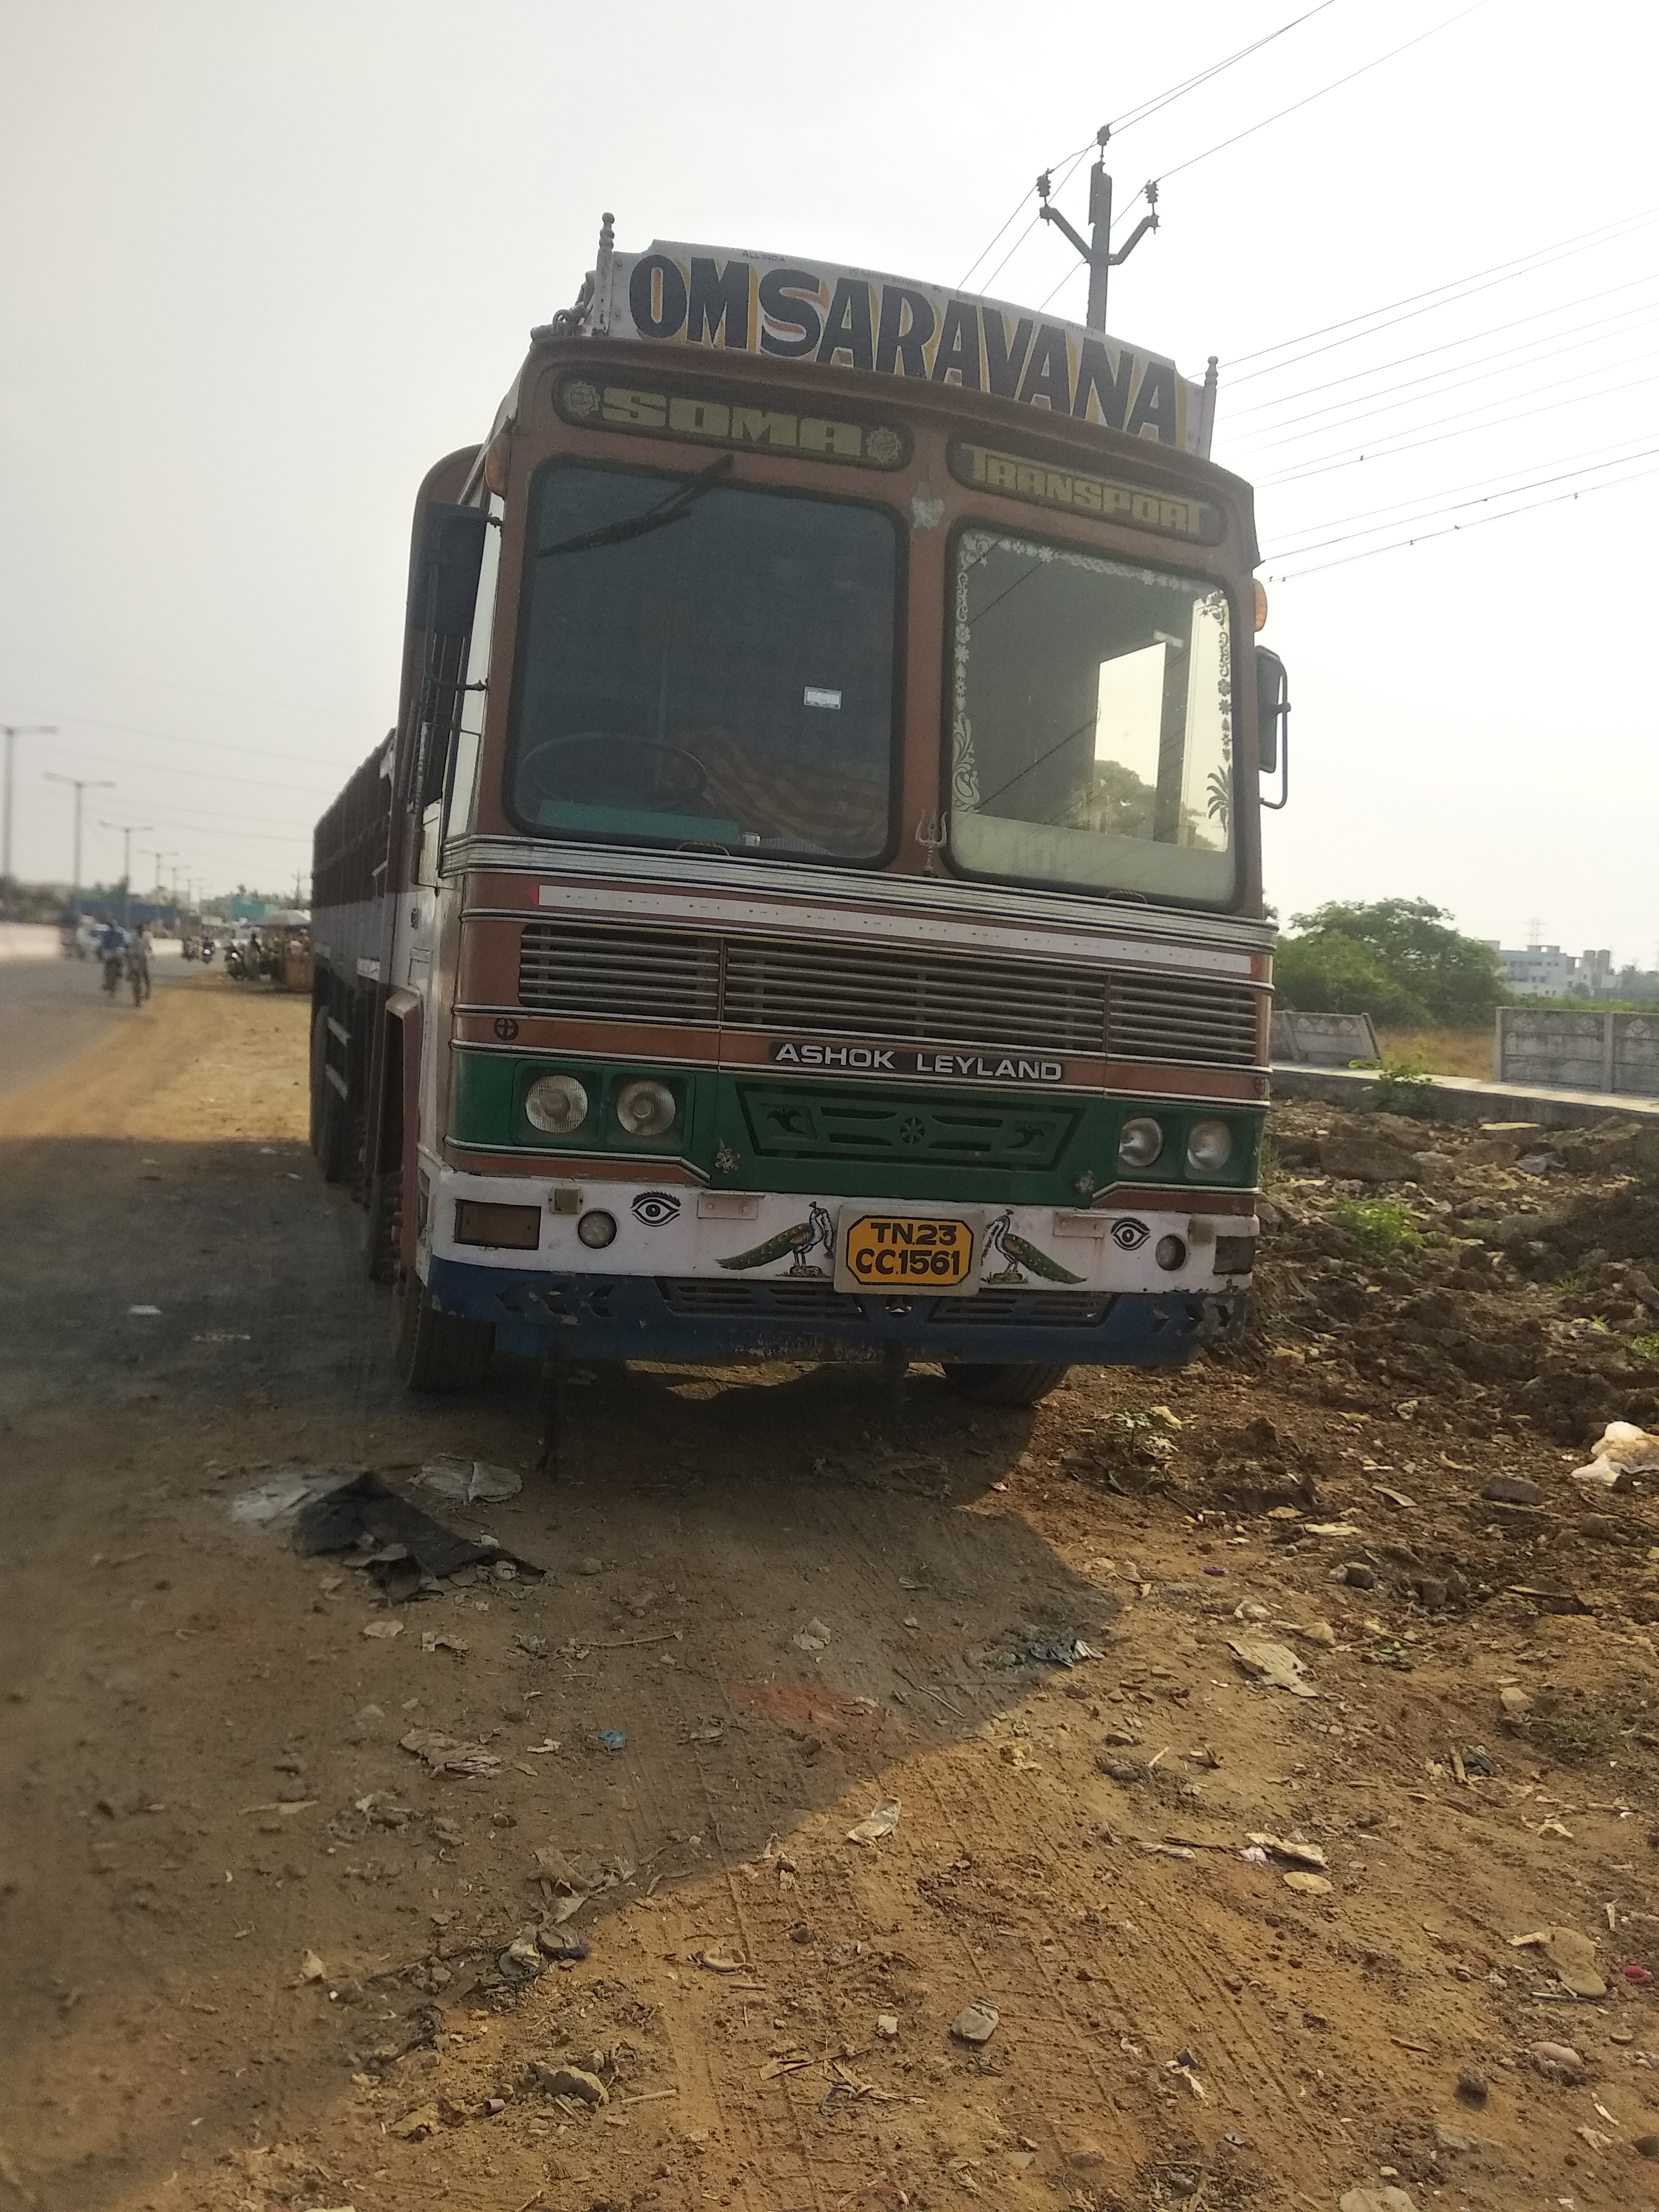truck: (301, 207, 1295, 1411)
